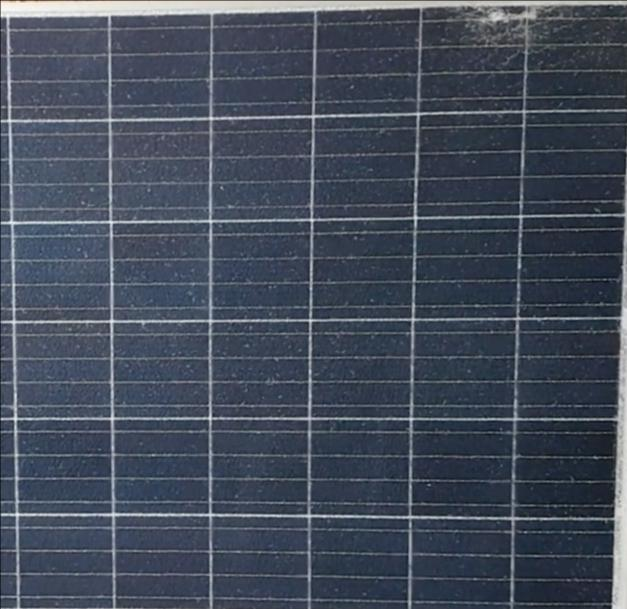Crack: (453, 2, 585, 42)
